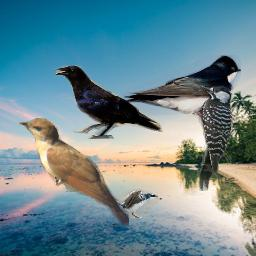Crow: (55, 65, 163, 139)
Cuckoo: (19, 118, 129, 226)
Swallow: (120, 55, 241, 122), (104, 189, 158, 218)
Woodpecker: (197, 83, 234, 191)
